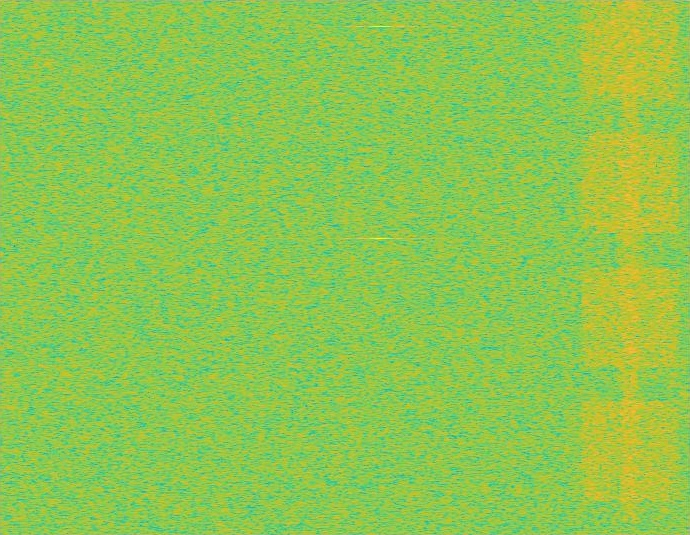5G: (578, 0, 682, 534)
DSSS: (619, 0, 642, 534)
Radar: (373, 0, 387, 534)
